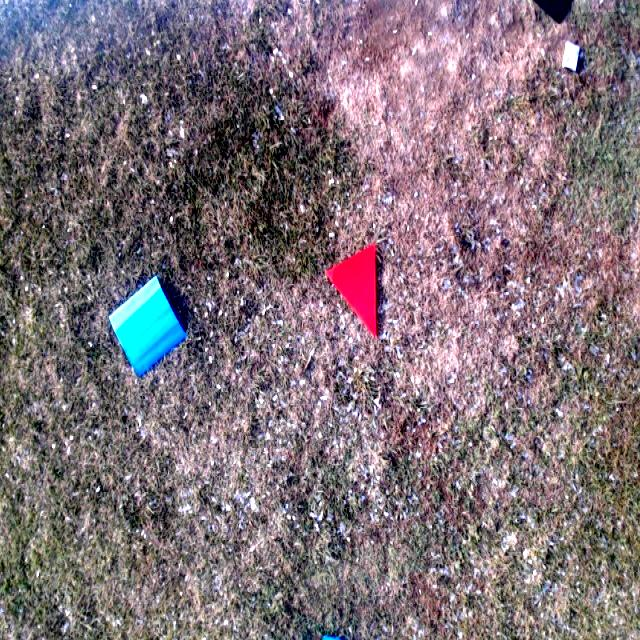blue_square: (110, 278, 185, 376)
red_triangle: (328, 245, 378, 336)
